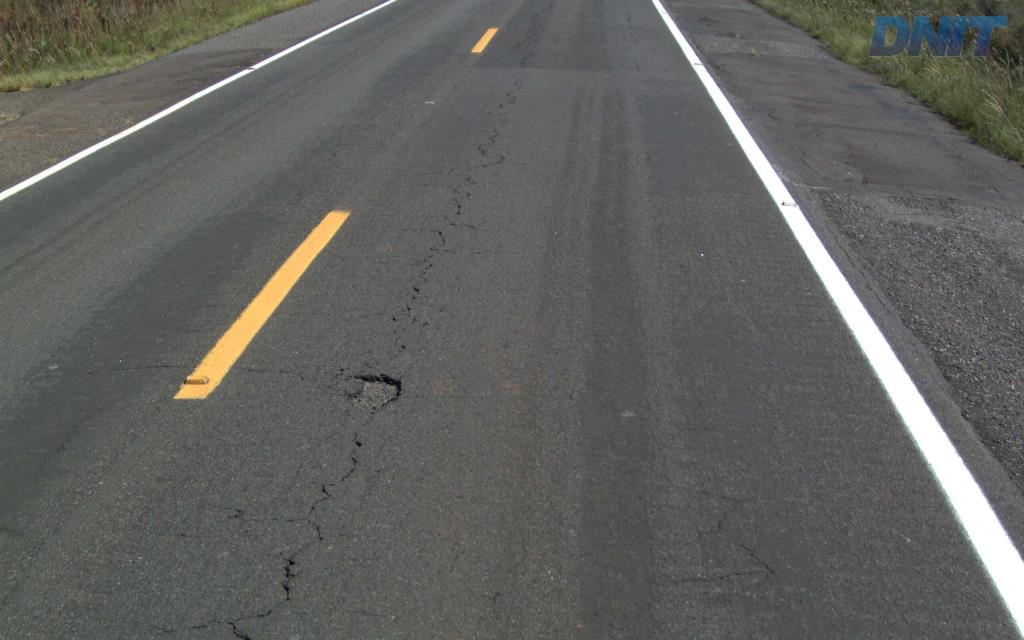pothole: (339, 369, 404, 413)
